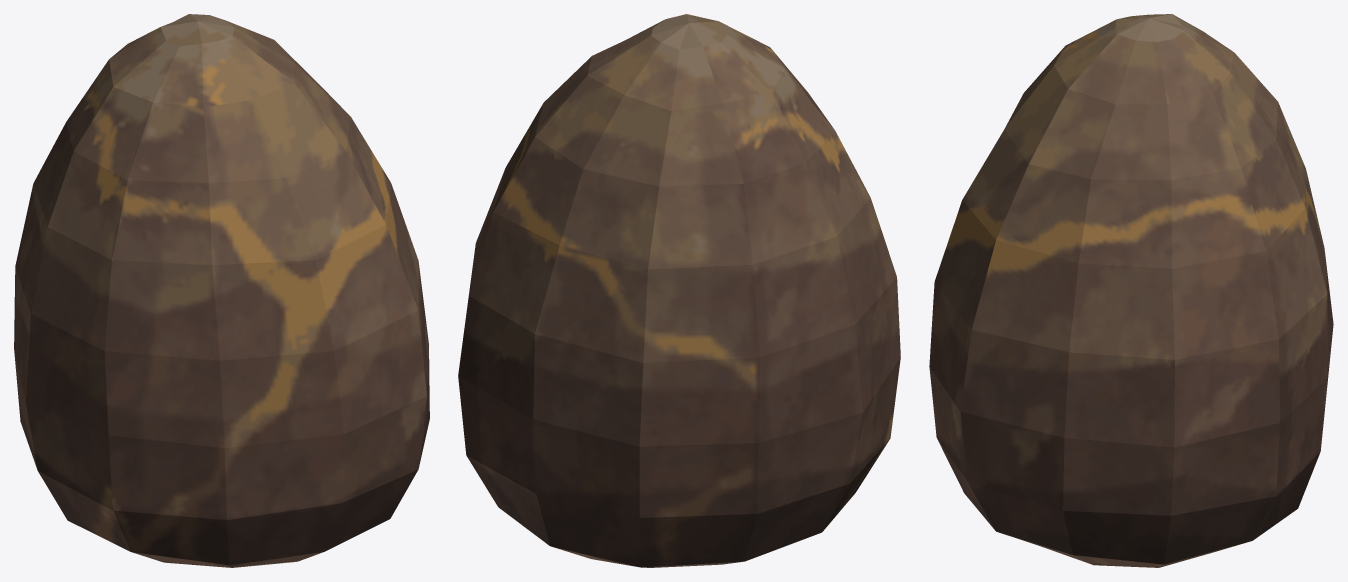
File: CI24_PetrifiedQueenEgg.fbx
3 renders of one model, left to right at view 1: azimuth 30°, elevation 25°; view 2: azimuth 150°, elevation 25°; view 3: azimuth 270°, elevation 25°, orthographic. The views are drawn at different scales.
Visible parts, largest first — view 1: CI24_PetrifiedQueenEgg; view 2: CI24_PetrifiedQueenEgg; view 3: CI24_PetrifiedQueenEgg.
Part boxes in pixels (<box>): CI24_PetrifiedQueenEgg: <box>14,14,429,567</box>; CI24_PetrifiedQueenEgg: <box>458,14,900,567</box>; CI24_PetrifiedQueenEgg: <box>929,14,1333,567</box>.
Bounding box in the file's own units: 0.1632 × 0.2058 × 0.1543.
1 material, 1 textured.
